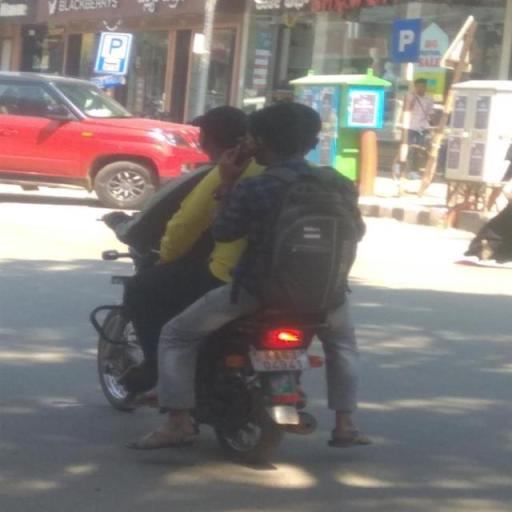tripple riding: (96, 96, 369, 323)
